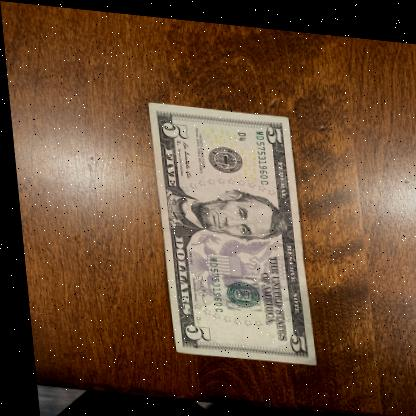five-front: (146, 97, 311, 359)
